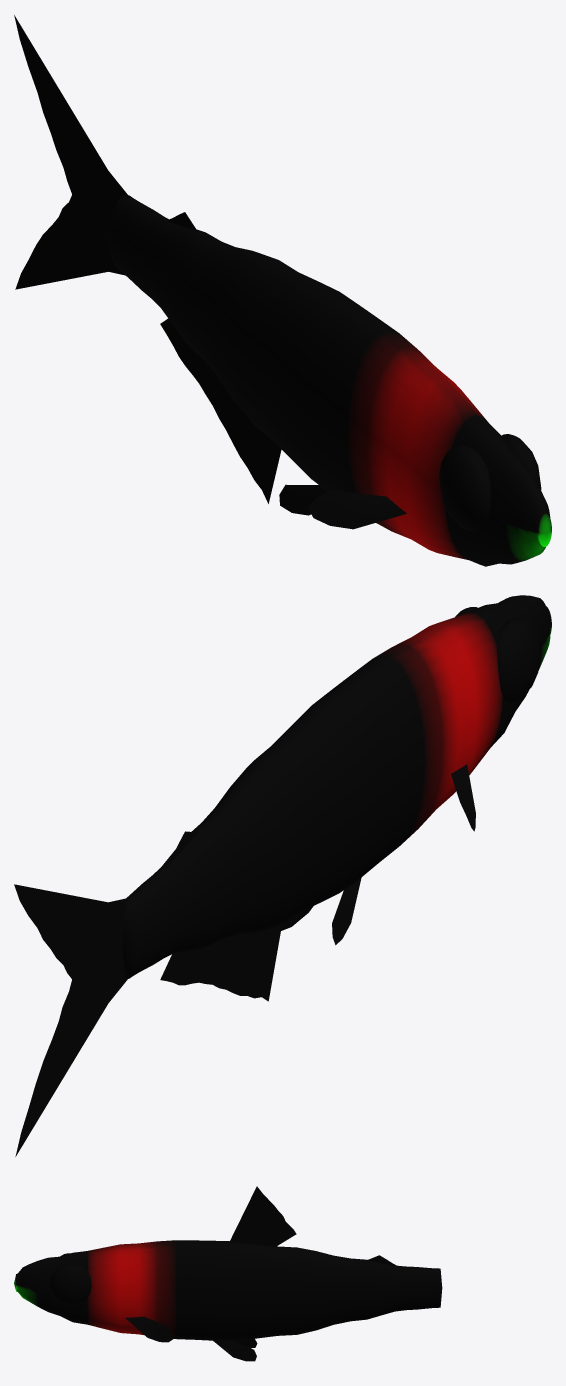
Rendered from neon-tetra.glb.
3 views of the same model, one above another, from view 1: azimuth 30°, elevation 25°; view 2: azimuth 150°, elevation 25°; view 3: azimuth 270°, elevation 25° (orthographic). The views are drawn at different scales.
Parts seen in each view (by area): view 1: Neon_wild_body, Neon_wild_caudal, Neon_wild_anal, Neon_wild_eyeL, Neon_wild_pectoralL, Neon_wild_pelvicL, Neon_wild_eyeR; view 2: Neon_wild_body, Neon_wild_caudal, Neon_wild_anal, Neon_wild_eyeL, Neon_wild_pelvicL, Neon_wild_pectoralL; view 3: Neon_wild_body, Neon_wild_dorsal, Neon_wild_eyeR, Neon_wild_pectoralR, Neon_wild_pelvicR.
Part boxes in pixels (box(x1,y1,x2,y2)): Neon_wild_body: box(109, 195, 551, 566); Neon_wild_caudal: box(14, 15, 128, 289); Neon_wild_anal: box(160, 318, 281, 503); Neon_wild_eyeL: box(439, 445, 490, 531); Neon_wild_pectoralL: box(308, 490, 406, 529); Neon_wild_pelvicL: box(279, 484, 327, 515); Neon_wild_eyeR: box(501, 434, 541, 489); Neon_wild_body: box(122, 595, 551, 979); Neon_wild_caudal: box(14, 884, 128, 1156); Neon_wild_anal: box(160, 923, 282, 1001); Neon_wild_eyeL: box(496, 618, 541, 703); Neon_wild_pelvicL: box(332, 877, 361, 945); Neon_wild_pectoralL: box(451, 764, 475, 831); Neon_wild_body: box(14, 1240, 442, 1340); Neon_wild_dorsal: box(229, 1186, 296, 1246); Neon_wild_eyeR: box(49, 1264, 91, 1304); Neon_wild_pectoralR: box(125, 1316, 172, 1342); Neon_wild_pelvicR: box(213, 1340, 256, 1361).
Bounding box in the file's own units: 0.224 × 0.4808 × 1.26.
